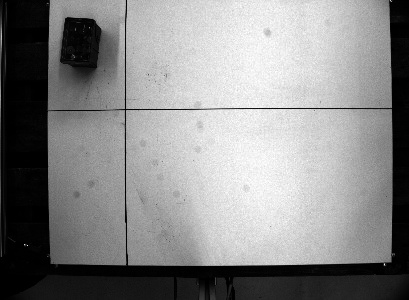kltxs: (58, 14, 102, 70)
